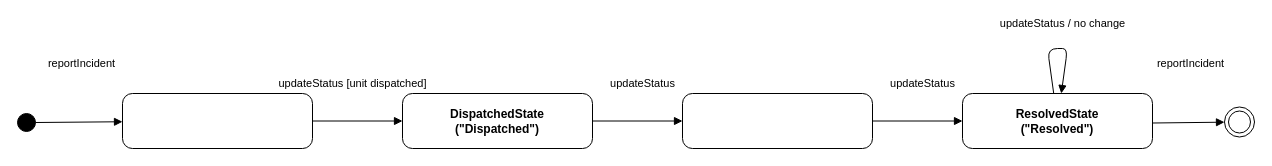
The diagram is 1272 pixels wide and 166 high, and some of its shapes have lost their labels. The shapes that lost their labels are listed below. From the top down, each one's centre as x and y in pixels, then its label:
point 217,120: ReportedState ("Reported")
point 777,120: InProgressState ("InProgress")
